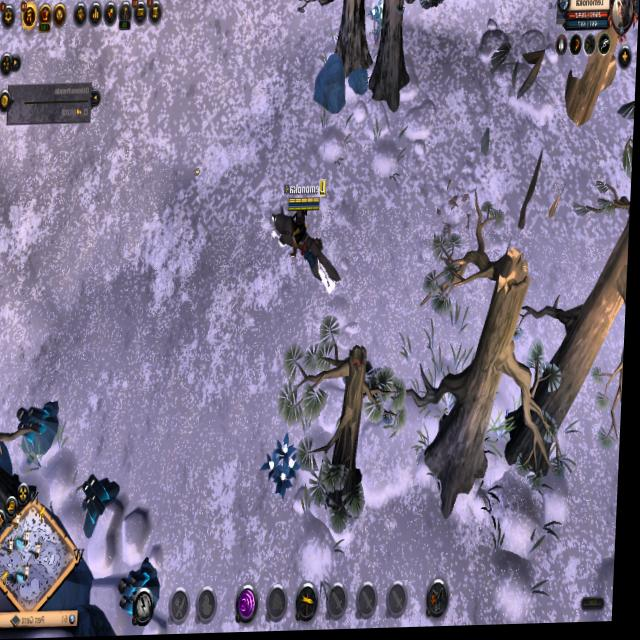fiber tier 4: (262, 426, 306, 505)
ore tier 4: (84, 466, 128, 537), (20, 398, 64, 464)
